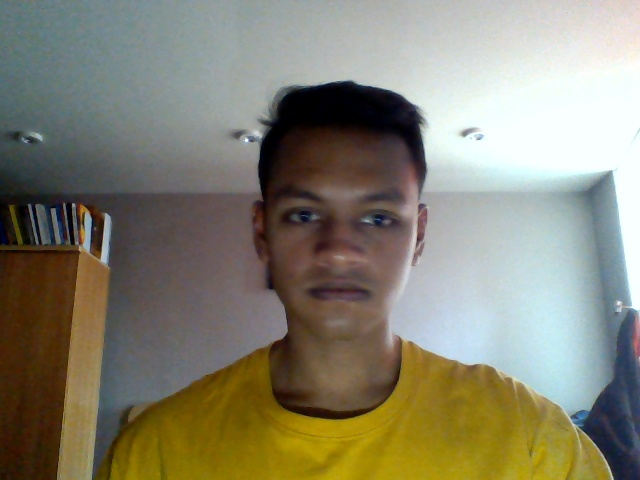no_mask: (266, 237, 411, 338)
